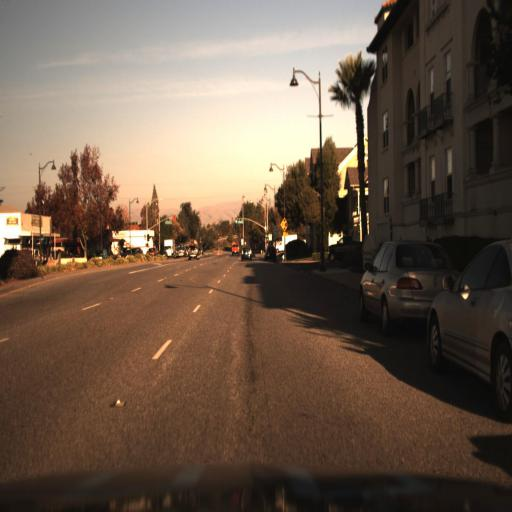car: (427, 236, 511, 419), (358, 240, 460, 336), (328, 234, 360, 264), (186, 234, 201, 264), (239, 242, 253, 266)
